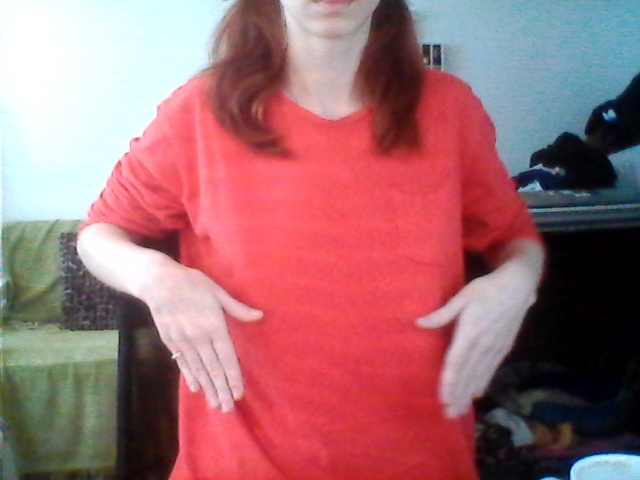zena: (149, 243, 508, 441)
